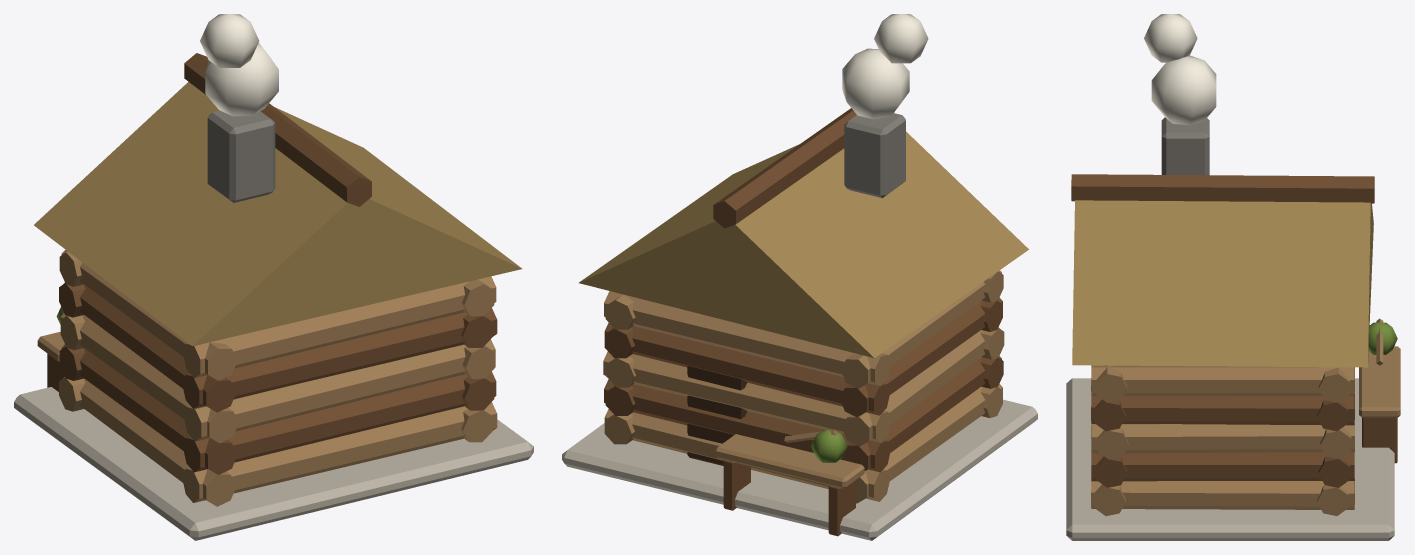
File: sauna.fbx
3 renders of one model, left to right at view 1: azimuth 30°, elevation 25°; view 2: azimuth 150°, elevation 25°; view 3: azimuth 270°, elevation 25°, orthographic. The views are drawn at different scales.
Parts seen in each view (by area): view 1: Building, Steam; view 2: Building, Steam; view 3: Building, Steam.
Boxes of the visible parts, bbox=[...] form: Building: bbox=[14, 53, 533, 540]; Steam: bbox=[200, 14, 278, 116]; Building: bbox=[562, 108, 1037, 540]; Steam: bbox=[842, 14, 928, 119]; Building: bbox=[1066, 117, 1400, 540]; Steam: bbox=[1144, 14, 1216, 125].
Size of the model in its own units: 1.2 by 1.12 by 1.55.
